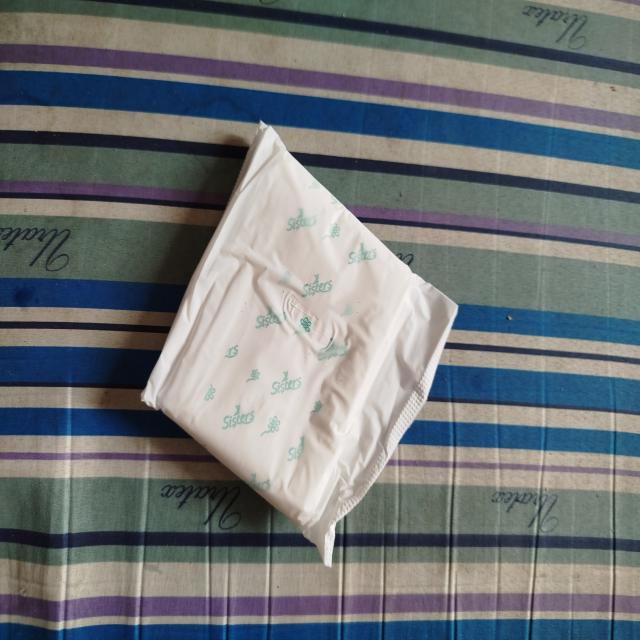residual: (124, 109, 477, 579)
